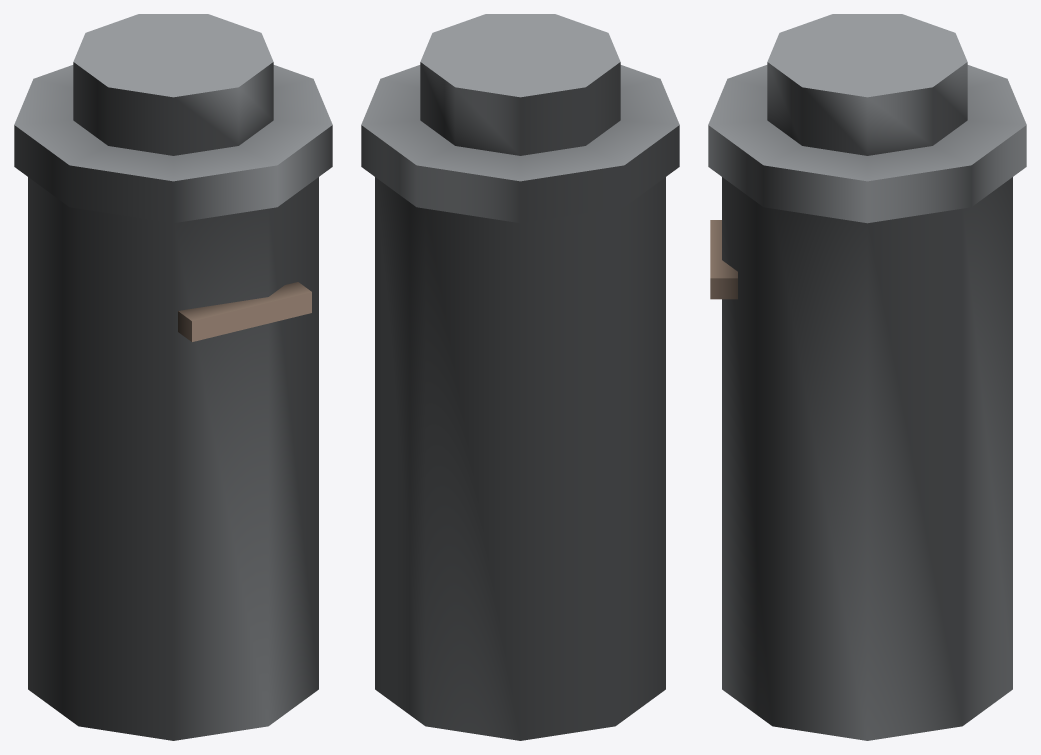
File: post_box.lod1.glb
3 views of the same model, side by side, from view 1: azimuth 30°, elevation 25°; view 2: azimuth 150°, elevation 25°; view 3: azimuth 270°, elevation 25° (orthographic).
Parts seen in each view (by area): view 1: props_post_box.lod1; view 2: props_post_box.lod1; view 3: props_post_box.lod1.
Part boxes in pixels (x1=…): props_post_box.lod1: x1=14, y1=14, x2=332, y2=740; props_post_box.lod1: x1=361, y1=14, x2=679, y2=740; props_post_box.lod1: x1=708, y1=14, x2=1026, y2=740.
Bounding box in the file's own units: 0.6789 × 1.49 × 0.6894.
